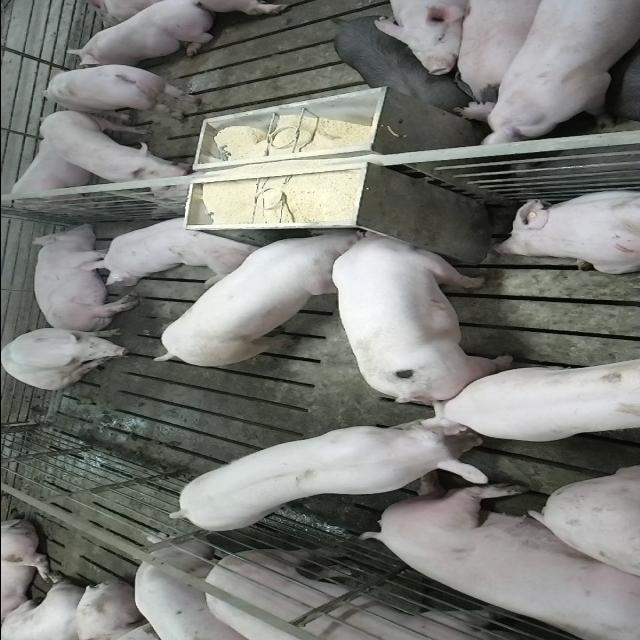Feeding: (330, 220, 512, 397), (144, 230, 362, 372)
Lateral_lying: (27, 224, 142, 332)
Sitting: (2, 326, 136, 390)
Standing: (194, 546, 640, 640), (157, 420, 483, 537), (460, 2, 640, 148), (426, 359, 640, 448), (127, 533, 251, 640), (328, 16, 461, 114), (36, 109, 188, 189), (449, 0, 552, 104), (35, 60, 201, 114)
Sternal_lying: (489, 187, 640, 274), (88, 211, 260, 283), (62, 3, 214, 68)
